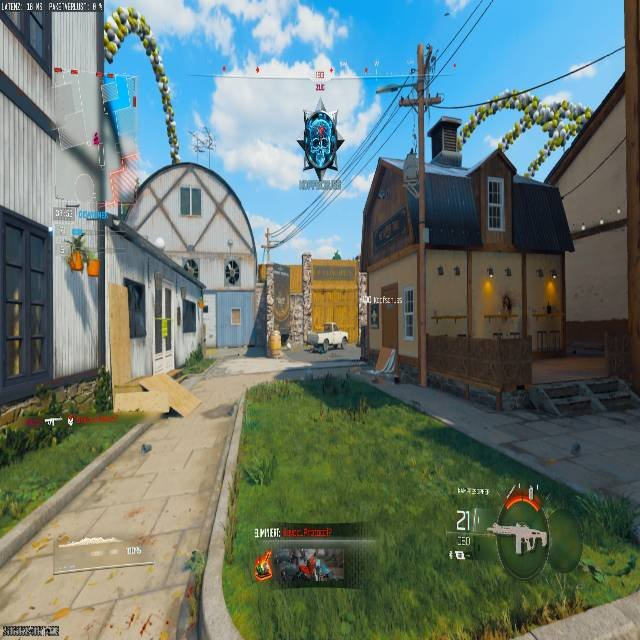player: (68, 229, 90, 271), (225, 259, 239, 285)
